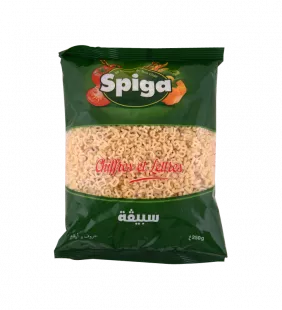SPIGA: (45, 37, 236, 274)
